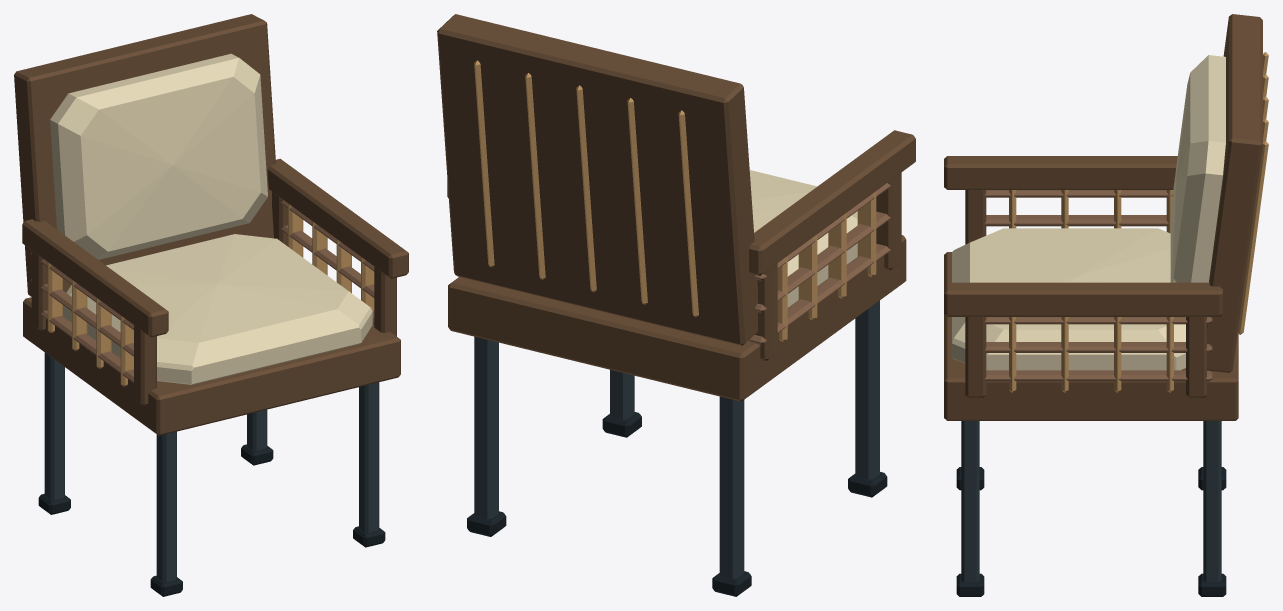
File: b11_woven_patio_armchair.glb
The picture shows the model from 3 angles, left to right: view 1: azimuth 30°, elevation 25°; view 2: azimuth 150°, elevation 25°; view 3: azimuth 270°, elevation 25°; orthographic projection. The views are drawn at different scales.
Visible parts, largest first — view 1: b11_woven_patio_armchair; view 2: b11_woven_patio_armchair; view 3: b11_woven_patio_armchair.
Boxes of the visible parts, x1,y1,x2,y2 form: b11_woven_patio_armchair: (14,14,408,596); b11_woven_patio_armchair: (437,14,915,596); b11_woven_patio_armchair: (944,14,1268,596).
Bounding box in the file's own units: 0.618 × 0.9714 × 0.6173.
